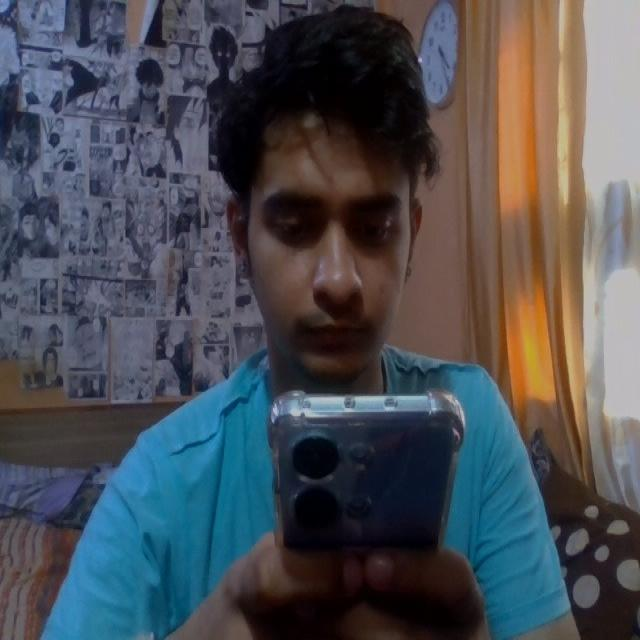phone: (270, 392, 465, 556)
using-phone: (46, 4, 583, 640)
